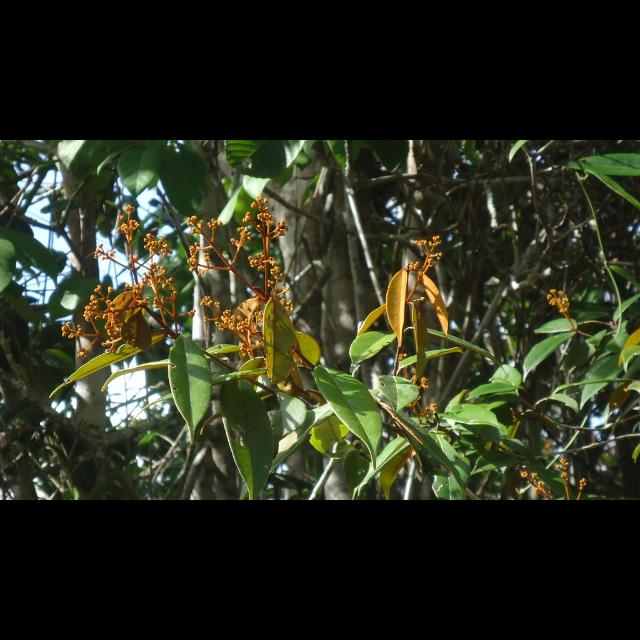Flower: (552, 292, 570, 310)
